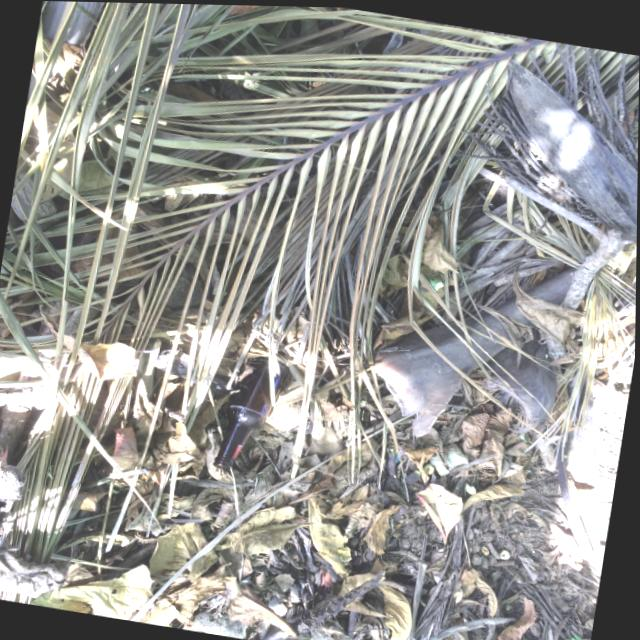Bottle-Glass: (203, 342, 299, 487)
